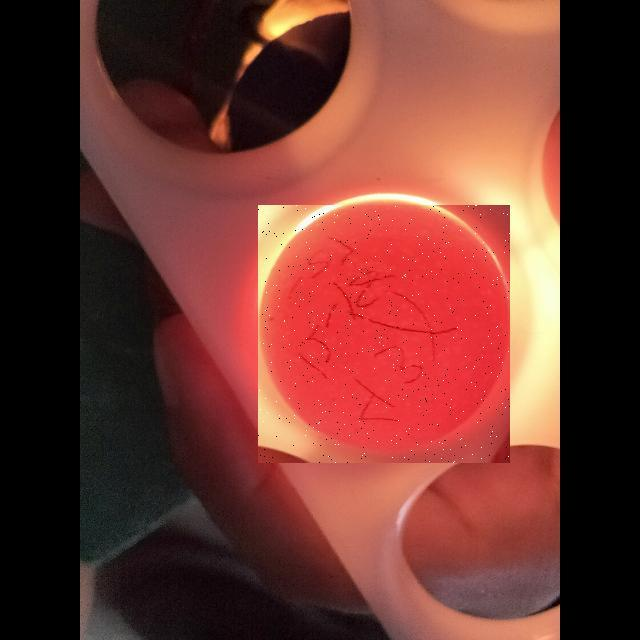Infertile: (258, 205, 510, 463)
